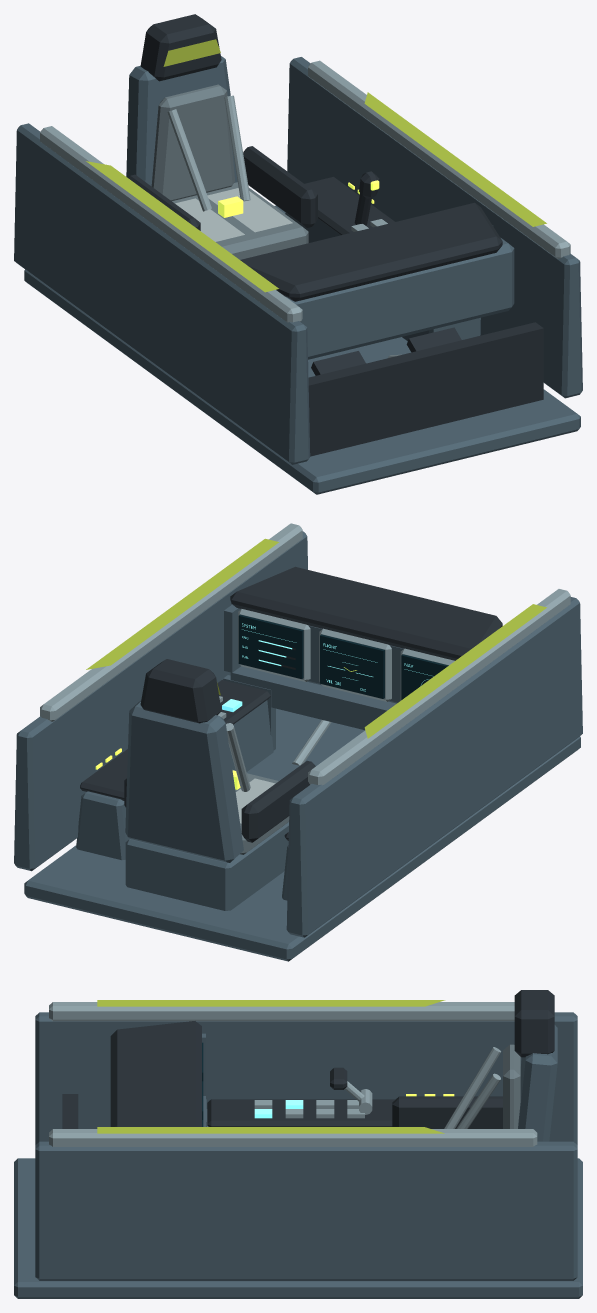
Rendered from SM_Fighter05_Cockpit_Interior.fbx.
The picture shows the model from 3 angles, top to bottom: view 1: azimuth 30°, elevation 25°; view 2: azimuth 150°, elevation 25°; view 3: azimuth 270°, elevation 25°; orthographic projection. The views are drawn at different scales.
Parts seen in each view (by area): view 1: CP05_Sill_-1, CP05_Sill_1, CP05_FootwellBulkhead, CP05_Floor, CP05_Dash, CP05_GlareShield, CP05_BackPadding, CP05_SeatBack, CP05_SillRail_1, CP05_SillRail_-1, CP05_Headrest, CP05_SeatBolster.001 (+13 smaller); view 2: CP05_Sill_-1, CP05_Floor, CP05_Sill_1, CP05_SeatBack, CP05_GlareShield, CP05_SeatPlinth, CP05_Console_1, CP05_SillRail_1, CP05_SillRail_-1, CP05_InstrumentApron, CP05_Headrest, CP05_Screen_1 (+12 smaller); view 3: CP05_Sill_1, CP05_Sill_-1, CP05_Floor, CP05_GlareShield, CP05_SillRail_-1, CP05_SillRail_1, CP05_ConsoleTop_-1, CP05_SeatBack, CP05_SeatBolster, CP05_Headrest, CP05_RailStripe_1, CP05_RailStripe_-1 (+4 smaller).
Boxes of the visible parts, left/top/right/bottom form: CP05_Sill_-1: left=14, top=123, right=310, bottom=464; CP05_Sill_1: left=287, top=57, right=582, bottom=398; CP05_FootwellBulkhead: left=308, top=322, right=543, bottom=456; CP05_Floor: left=24, top=205, right=580, bottom=494; CP05_Dash: left=285, top=238, right=514, bottom=359; CP05_GlareShield: left=240, top=202, right=502, bottom=301; CP05_BackPadding: left=151, top=84, right=234, bottom=200; CP05_SeatBack: left=126, top=56, right=237, bottom=186; CP05_SillRail_1: left=308, top=60, right=570, bottom=258; CP05_SillRail_-1: left=40, top=126, right=302, bottom=322; CP05_Headrest: left=140, top=14, right=221, bottom=81; CP05_SeatBolster.001: left=243, top=146, right=317, bottom=227; CP05_Sill_-1: left=286, top=597, right=582, bottom=937; CP05_Floor: left=24, top=708, right=580, bottom=961; CP05_Sill_1: left=14, top=531, right=307, bottom=871; CP05_SeatBack: left=125, top=700, right=243, bottom=862; CP05_GlareShield: left=230, top=566, right=502, bottom=660; CP05_SeatPlinth: left=125, top=822, right=288, bottom=910; CP05_Console_1: left=76, top=700, right=273, bottom=860; CP05_SillRail_1: left=40, top=523, right=302, bottom=721; CP05_SillRail_-1: left=308, top=589, right=570, bottom=785; CP05_InstrumentApron: left=230, top=666, right=396, bottom=730; CP05_Headrest: left=140, top=659, right=221, bottom=723; CP05_Screen_1: left=320, top=634, right=384, bottom=698; CP05_Sill_1: left=35, top=1141, right=577, bottom=1280; CP05_Sill_-1: left=35, top=1012, right=577, bottom=1144; CP05_Floor: left=14, top=1158, right=582, bottom=1298; CP05_GlareShield: left=110, top=1021, right=201, bottom=1126; CP05_SillRail_-1: left=49, top=1002, right=514, bottom=1021; CP05_SillRail_1: left=49, top=1129, right=537, bottom=1146; CP05_ConsoleTop_-1: left=207, top=1099, right=395, bottom=1126; CP05_SeatBack: left=518, top=1025, right=557, bottom=1141; CP05_SeatBolster: left=392, top=1096, right=502, bottom=1128; CP05_Headrest: left=514, top=990, right=554, bottom=1057; CP05_RailStripe_1: left=97, top=1127, right=444, bottom=1133; CP05_RailStripe_-1: left=97, top=1000, right=445, bottom=1006.
Bounding box in the file's own units: 1.23 × 0.98 × 2.12.
